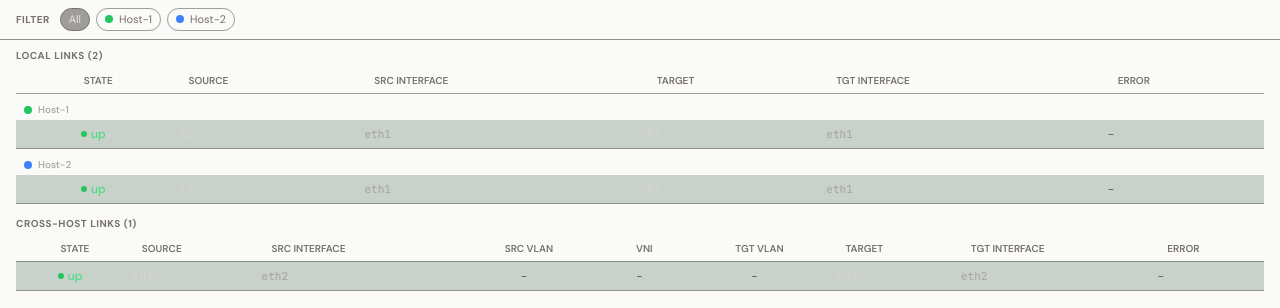
LinkTable - interactions › host filter › filters local links when a host button is clicked
The image size is (1280, 308).
Click Host-1 filter button
Click the button "Host-1" at (128, 19), box [96,8,161,30]
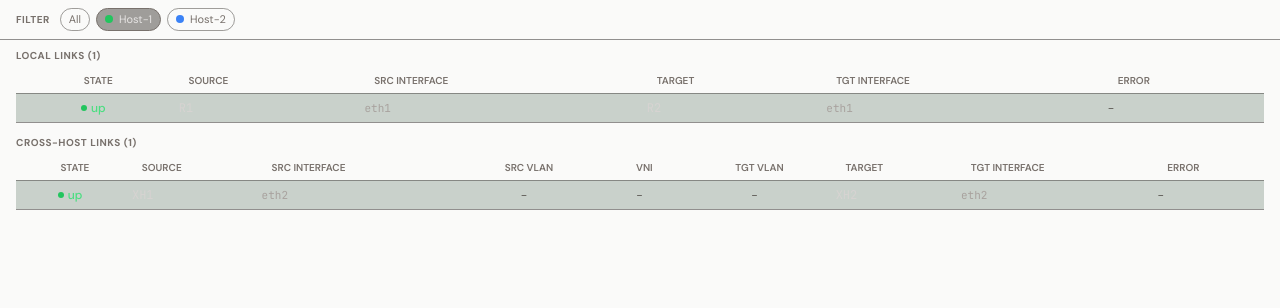
Check: the text "R4" is gone
